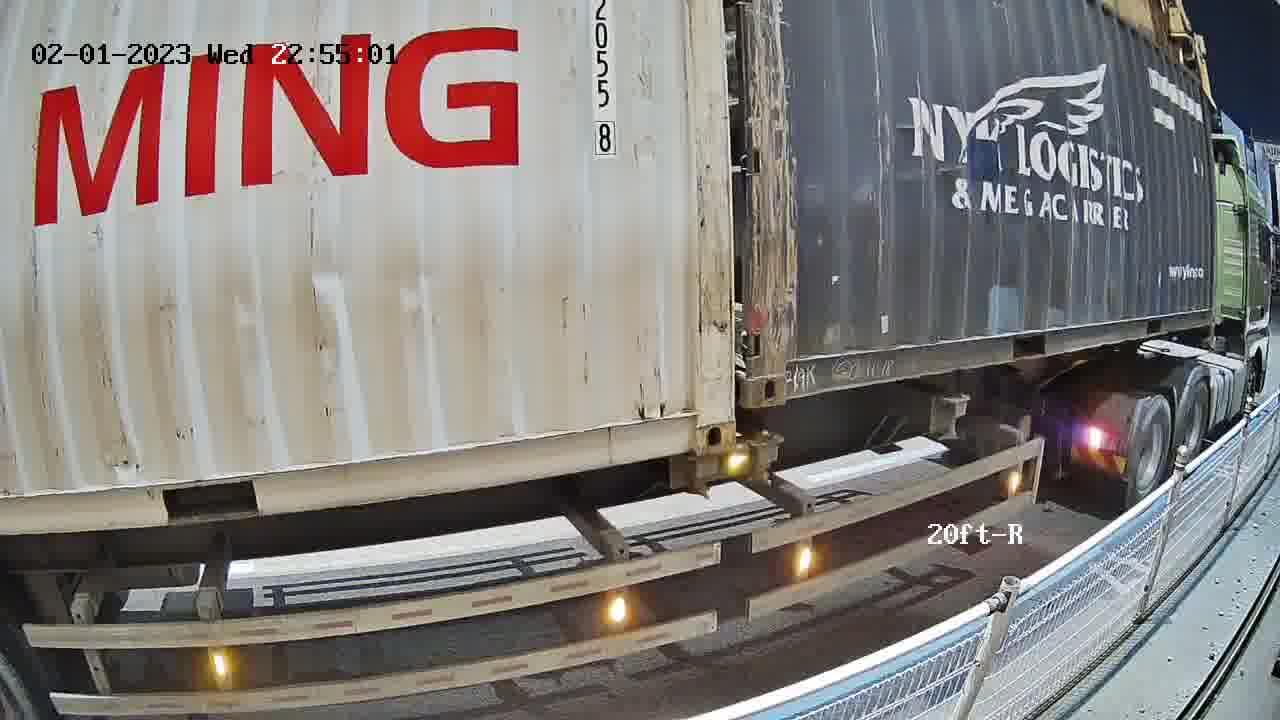Cone: (743, 429, 783, 490), (687, 453, 722, 499)
Hole_L: (750, 328, 818, 407)
Hole_R: (649, 380, 735, 458)
Tire: (1131, 397, 1171, 501), (1175, 381, 1211, 463)
